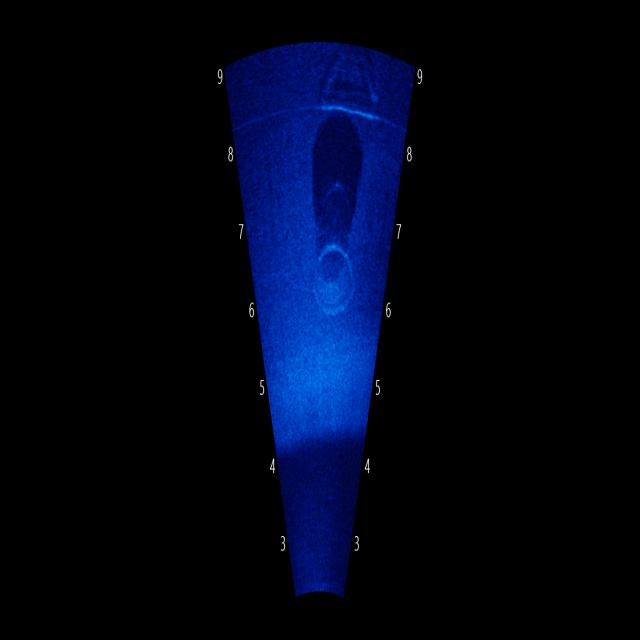circle: (308, 217, 359, 340)
triangle: (306, 48, 386, 146)
